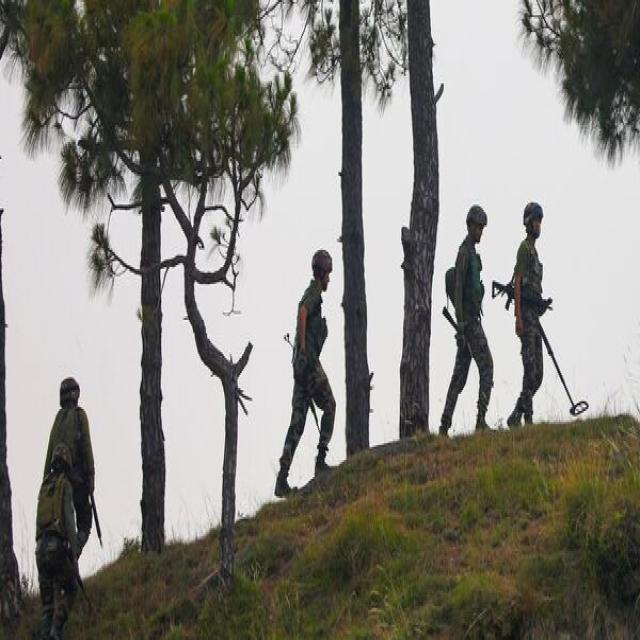Forest: (0, 2, 640, 640)
Militant: (22, 364, 114, 640), (264, 236, 356, 500), (504, 181, 588, 467), (433, 182, 511, 462)
